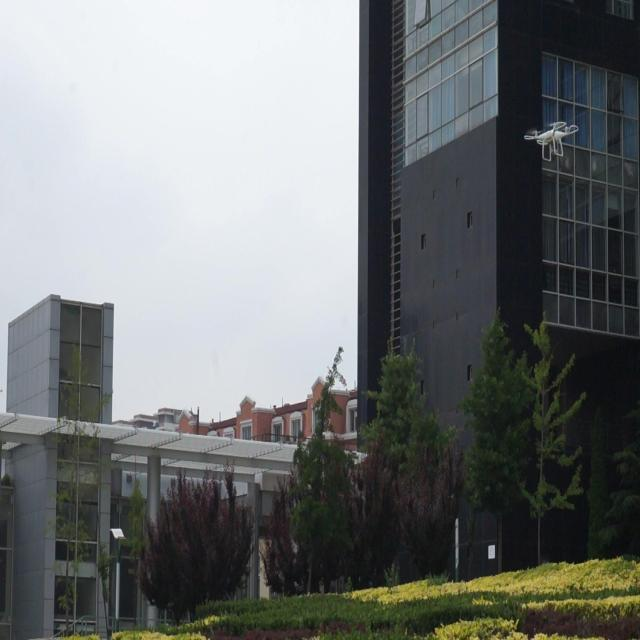drone: (522, 115, 579, 167)
